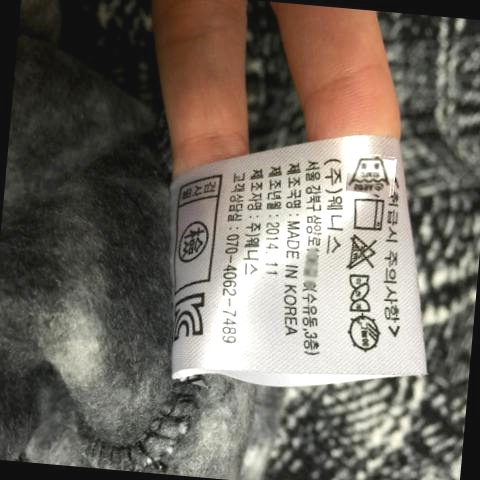DN_bleach: (346, 235, 381, 270)
hand_wash: (348, 155, 391, 193)
machine_wash: (349, 198, 387, 232)
shade_dry: (347, 315, 383, 355)
wring: (345, 273, 377, 314)
